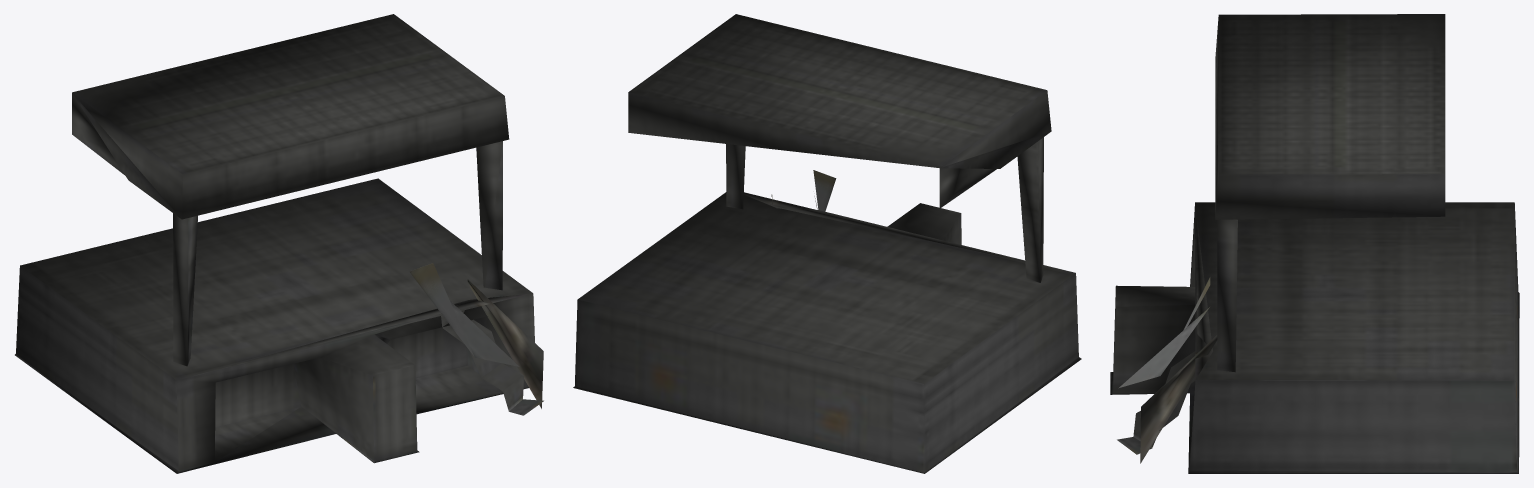
3 views of the same model, side by side, from view 1: azimuth 30°, elevation 25°; view 2: azimuth 150°, elevation 25°; view 3: azimuth 270°, elevation 25° (orthographic). The views are drawn at different scales.
Bounding box in the file's own units: 3 × 2.25 × 2.87.
1 material, 1 textured.
